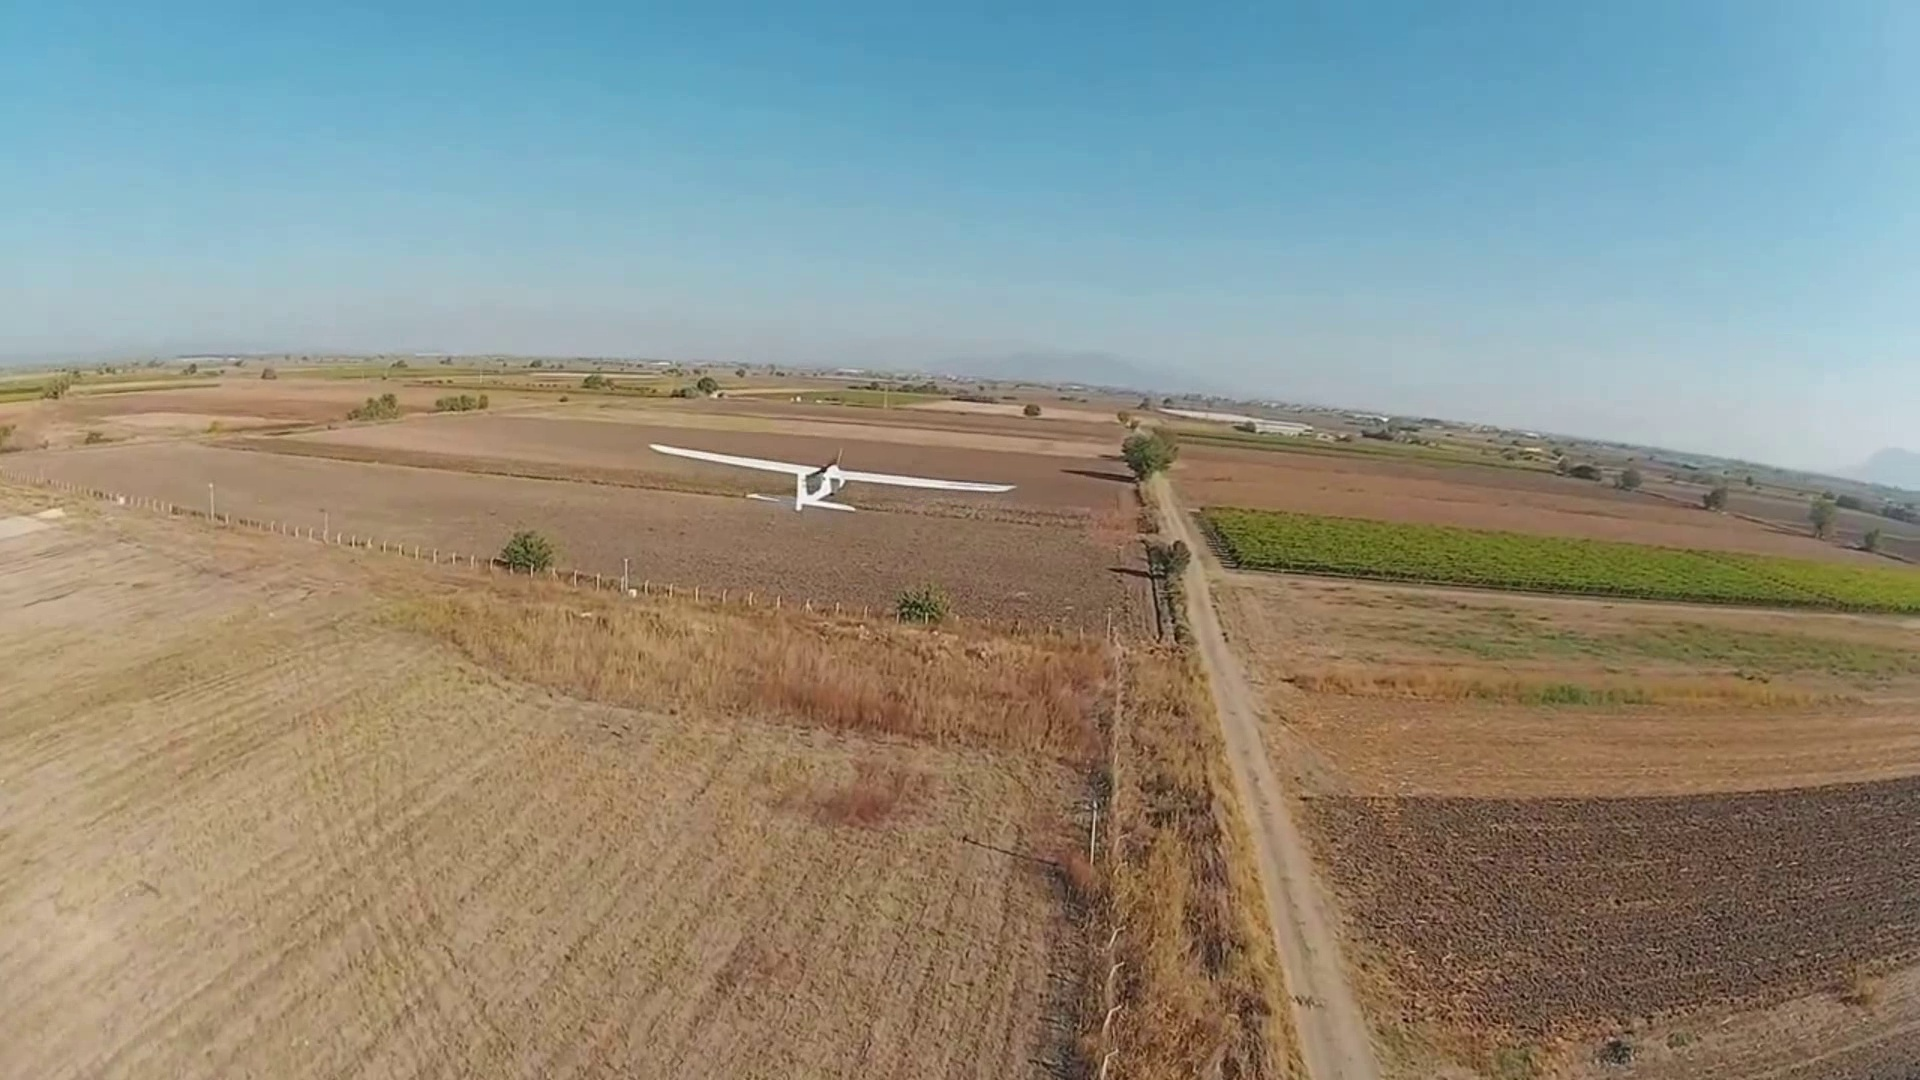airplane: (647, 436, 1015, 514), (647, 440, 843, 513)
